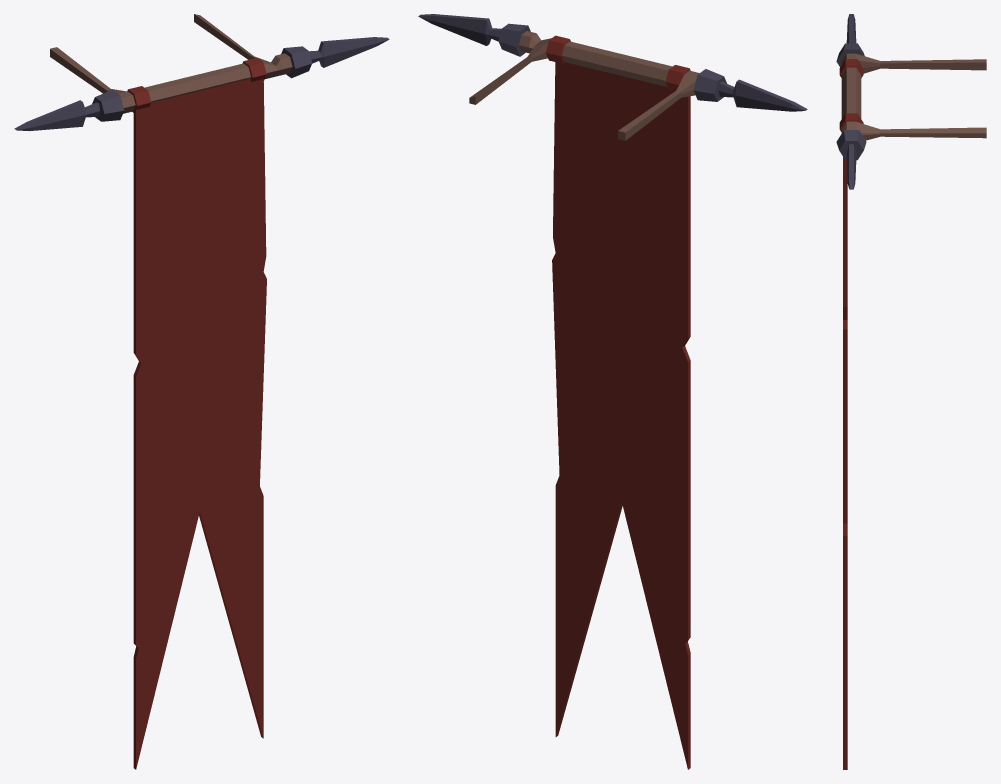
The model's file is Banner_wall.glb.
3 views of the same model, side by side, from view 1: azimuth 30°, elevation 25°; view 2: azimuth 150°, elevation 25°; view 3: azimuth 270°, elevation 25° (orthographic). The views are drawn at different scales.
Parts seen in each view (by area): view 1: Banner_wall; view 2: Banner_wall; view 3: Banner_wall.
Part boxes in pixels (x1,y1,x2,y2): Banner_wall: (14,14,389,769); Banner_wall: (418,14,807,769); Banner_wall: (836,14,986,769).
Size of the model in its own units: 1.64 by 2.85 by 0.5931.
